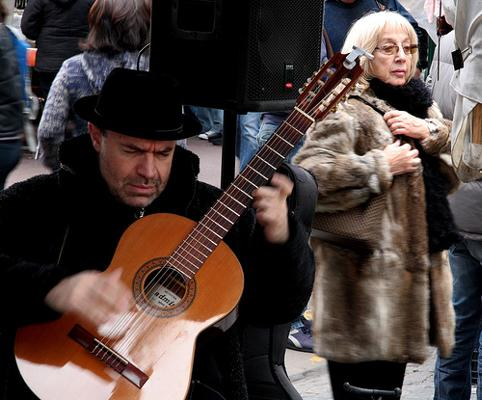person: (3, 67, 317, 400)
